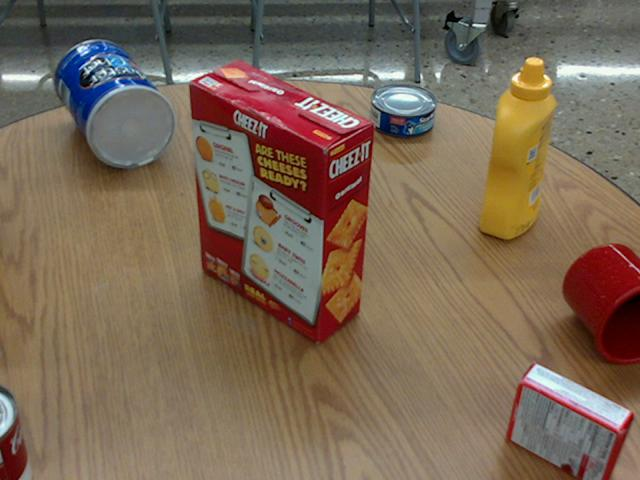cracker_box: (191, 62, 376, 341)
gelatin_box: (507, 364, 633, 479)
master_chef_can: (57, 41, 176, 168)
mug: (563, 242, 639, 363)
mustard_bottle: (479, 57, 556, 237)
potted_meat_can: (254, 86, 337, 197)
tomato_soup_can: (0, 383, 38, 479)
tuna_fish_can: (370, 82, 437, 137)
